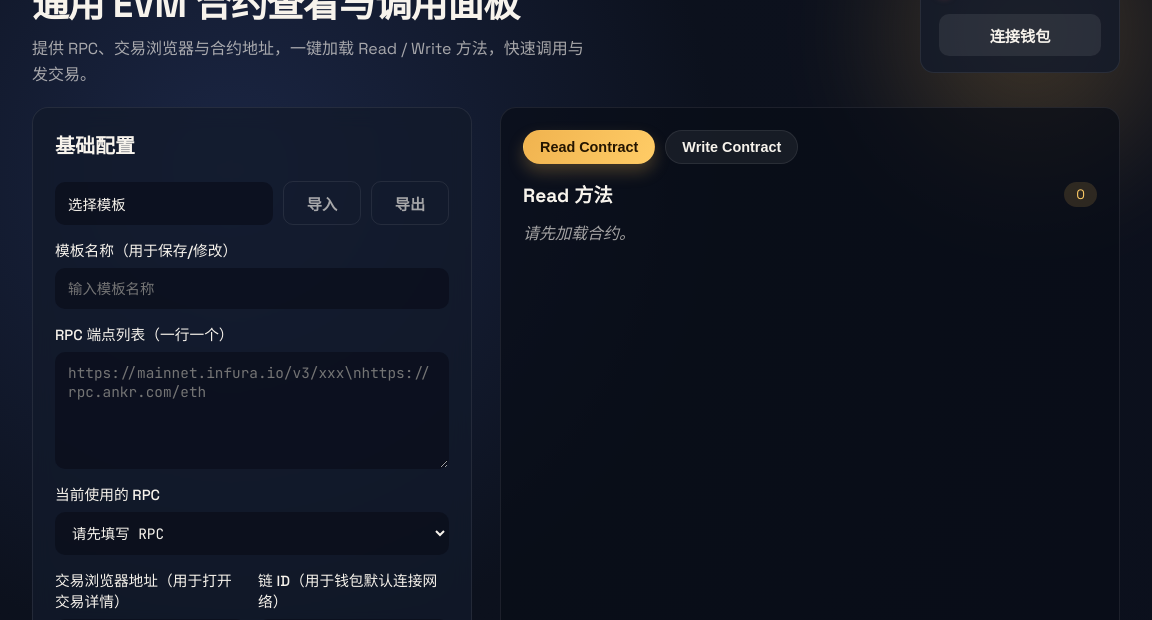
Test: App contract ABI loading › renders the entered contract ABI even when a related proxy implementation is unverified
Step 1. Type "https://ethereum-rpc.publicnode.com" into the text box labelled "RPC 端点列表（一行一个）" → (252, 411), box [55,352,449,469]
(page scrolled)
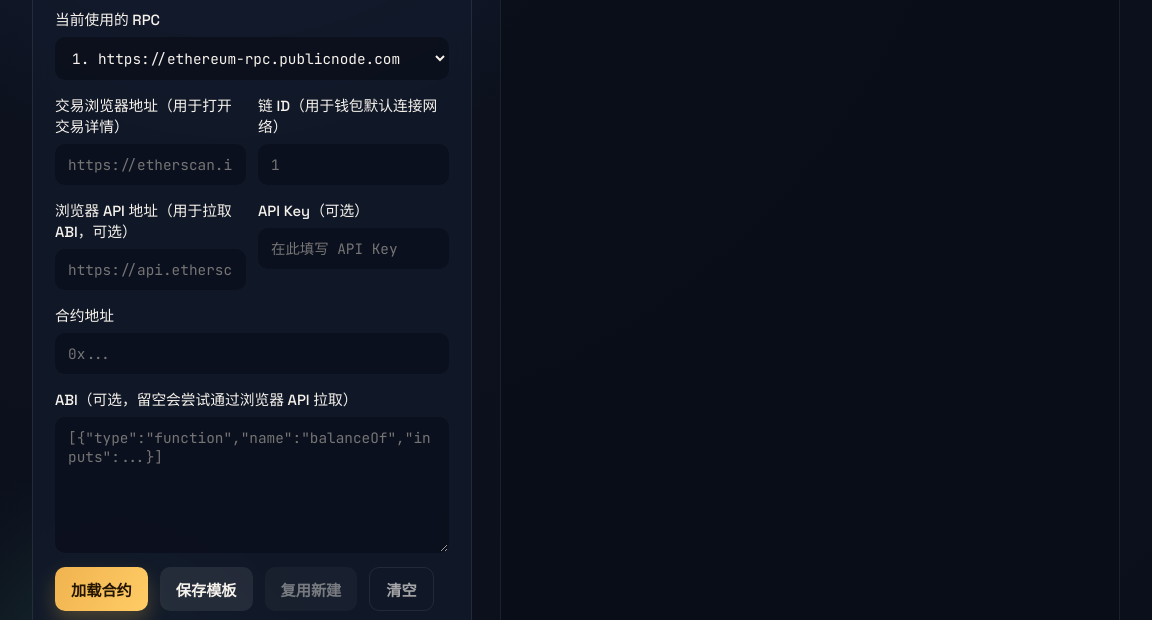
Step 2. Type "https://api.example.test/api" into the field labelled "浏览器 API 地址（用于拉取 ABI，可选）" → (150, 270), box [55,249,246,290]
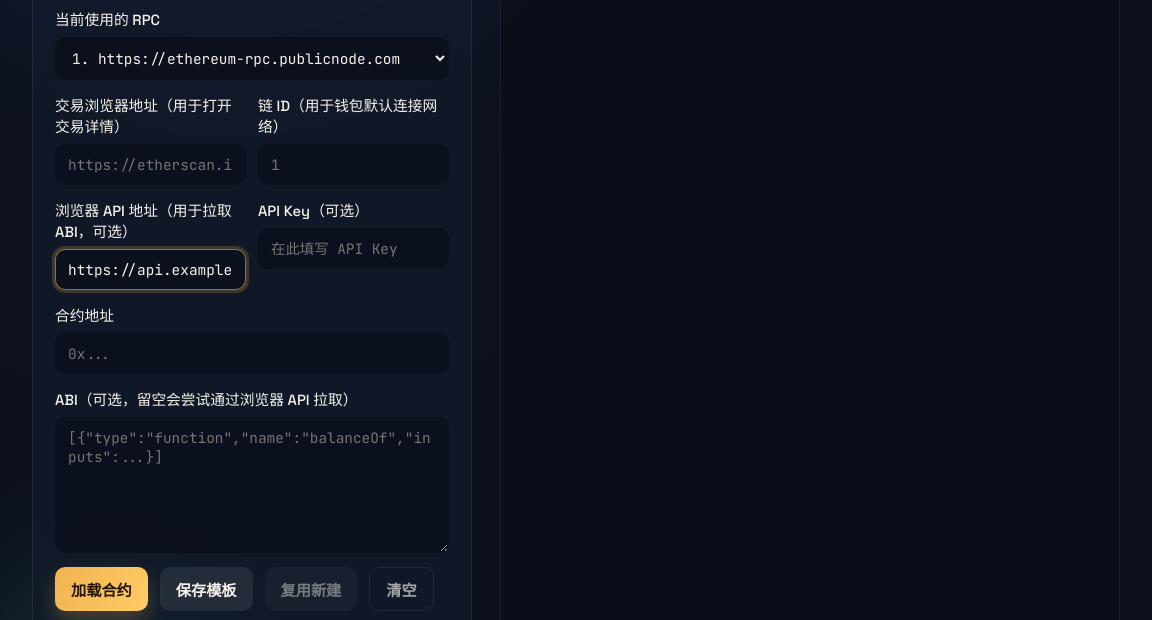
Step 3. Type "0x1bbf25e71ec48b84d773809b4ba55b6f4be946fb" into the field labelled "合约地址" → (252, 354), box [55,333,449,374]
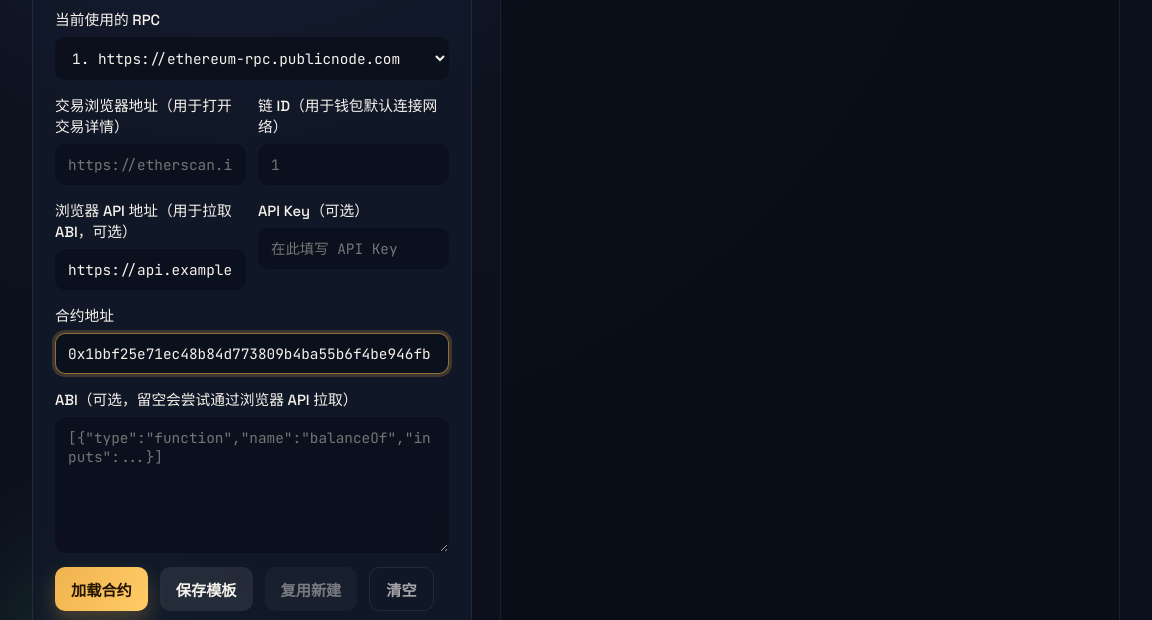
Step 4. Click the button "加载合约" → (101, 589), box [55,567,148,611]
(page scrolled)
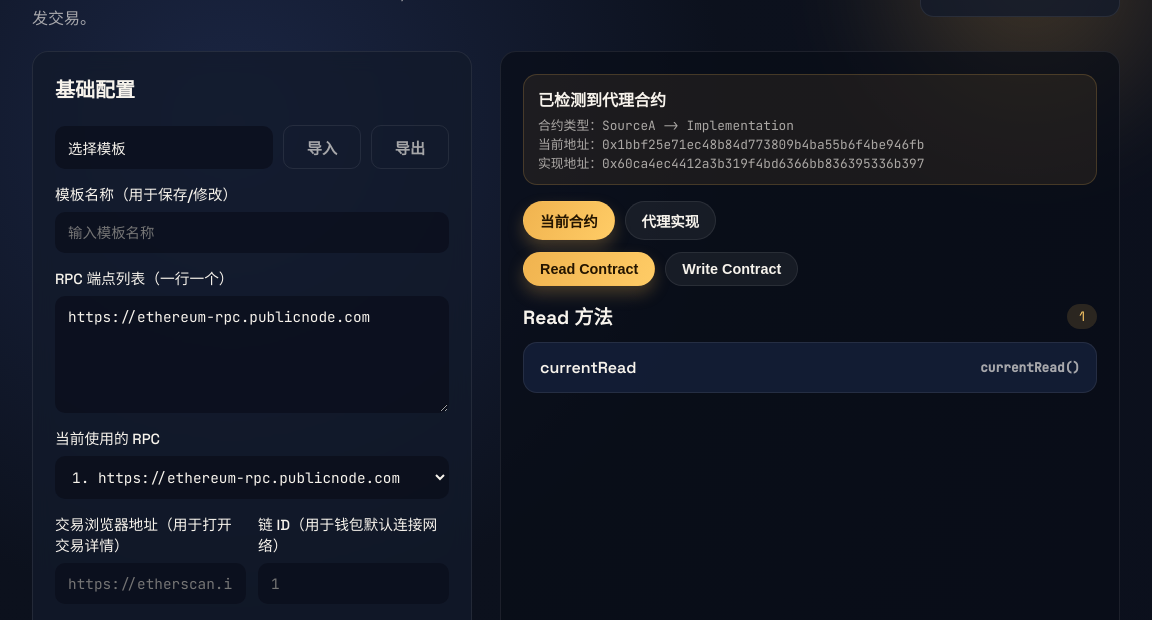
Expected: the text "currentRead" is shown, [540,357,636,378]
Step 5. Click the button "Write Contract" → (732, 269), box [665,252,798,286]
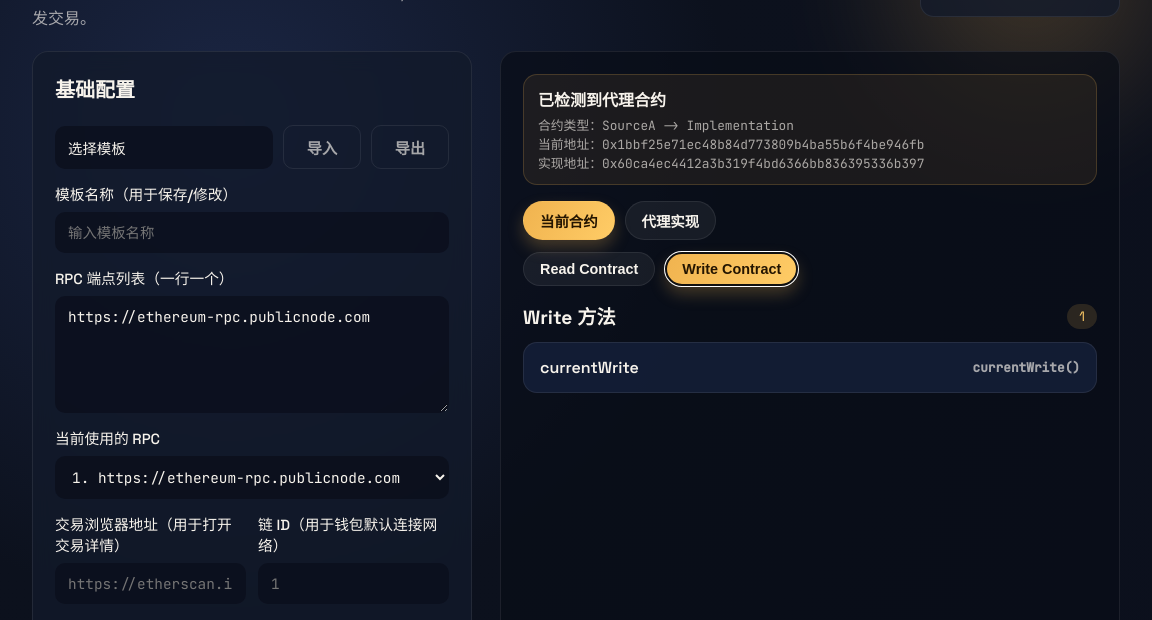
Expected: the text "currentWrite" is shown, [540,357,639,378]
